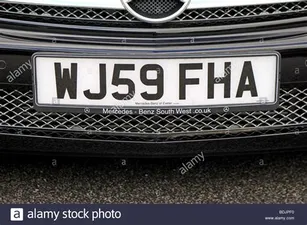number_plate: (29, 47, 286, 121)
